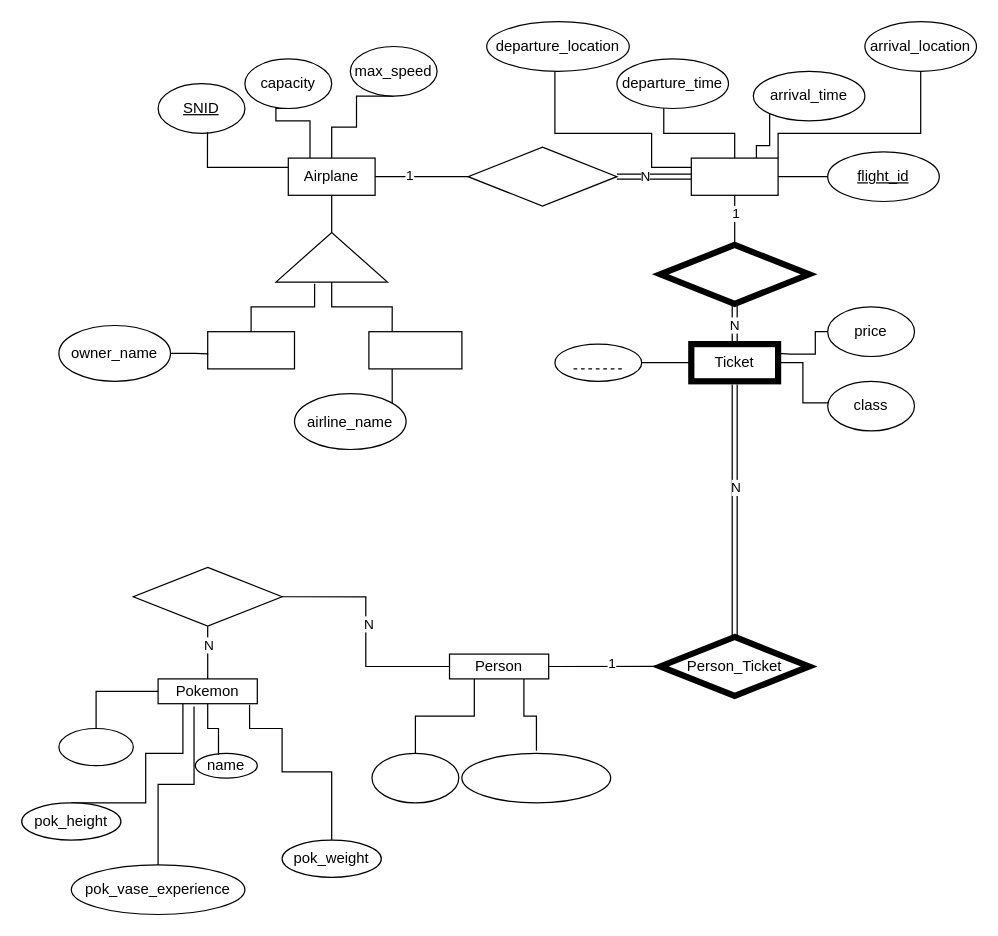
Some shapes in this 998 by 936 pixel diagram are drawn without their labels. The centre of each missing label's shape, as x and y in pixels:
"Airplane_Flight" belongs at [542,176].
"Commercial" belongs at [415,349].
"FavPokemon" belongs at [207,596].
"Flight" belongs at [734,176].
"Flight_Ticket" belongs at [734,273].
"ISA" belongs at [331,256].
"p_id" belongs at [415,777].
"passenger_name" belongs at [536,777].
"poke_id" belongs at [95,746].
"PrivateJet" belongs at [250,349].
"seat_num" belongs at [598,362].
